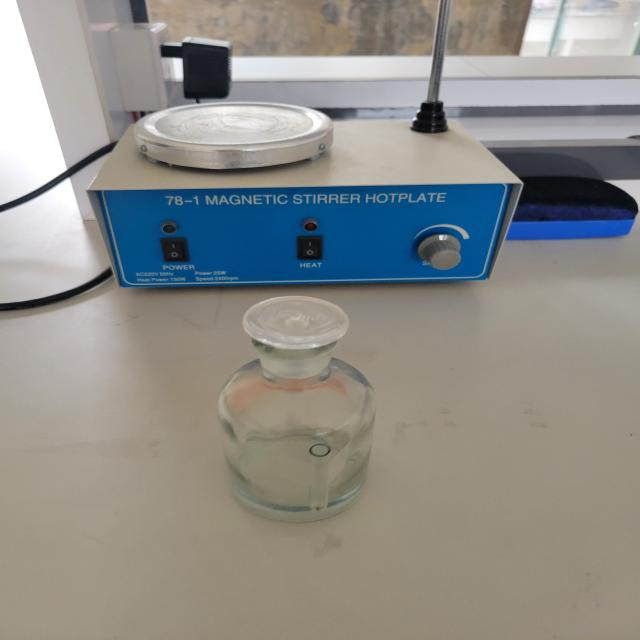Reagent_Bottle: (159, 267, 426, 547)
